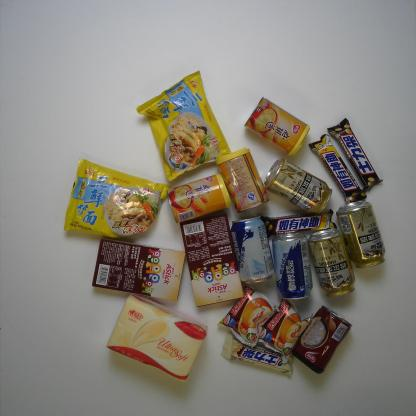Alcohol: (259, 158, 335, 216), (333, 198, 388, 271), (306, 228, 360, 298), (227, 214, 279, 286), (270, 229, 315, 302)
Canned Food: (241, 95, 313, 160), (290, 303, 354, 376), (215, 146, 272, 215), (162, 172, 234, 224)
Chocolate: (327, 116, 386, 194), (309, 133, 371, 207), (220, 333, 295, 376), (261, 209, 340, 236)
Dessert: (89, 235, 189, 303), (179, 212, 245, 310), (215, 284, 281, 350), (256, 294, 316, 358)
Instant Noodles: (135, 67, 231, 184), (62, 158, 170, 241)
Tissue: (104, 291, 209, 384)
